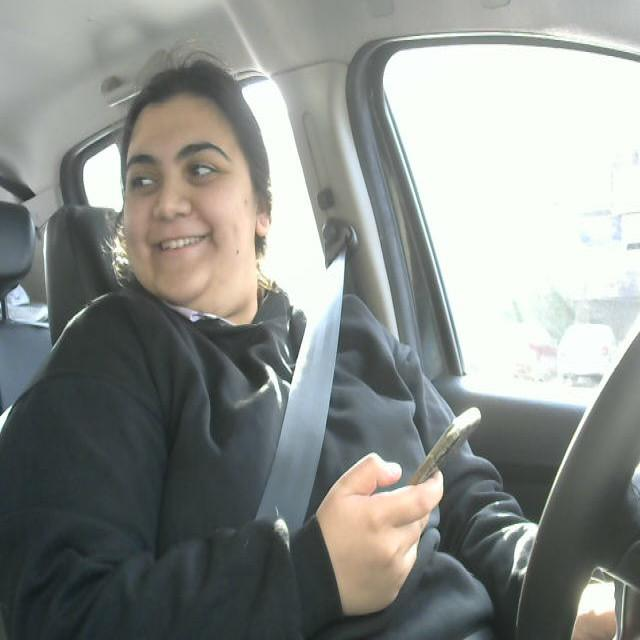mobile use: (397, 396, 492, 508)
